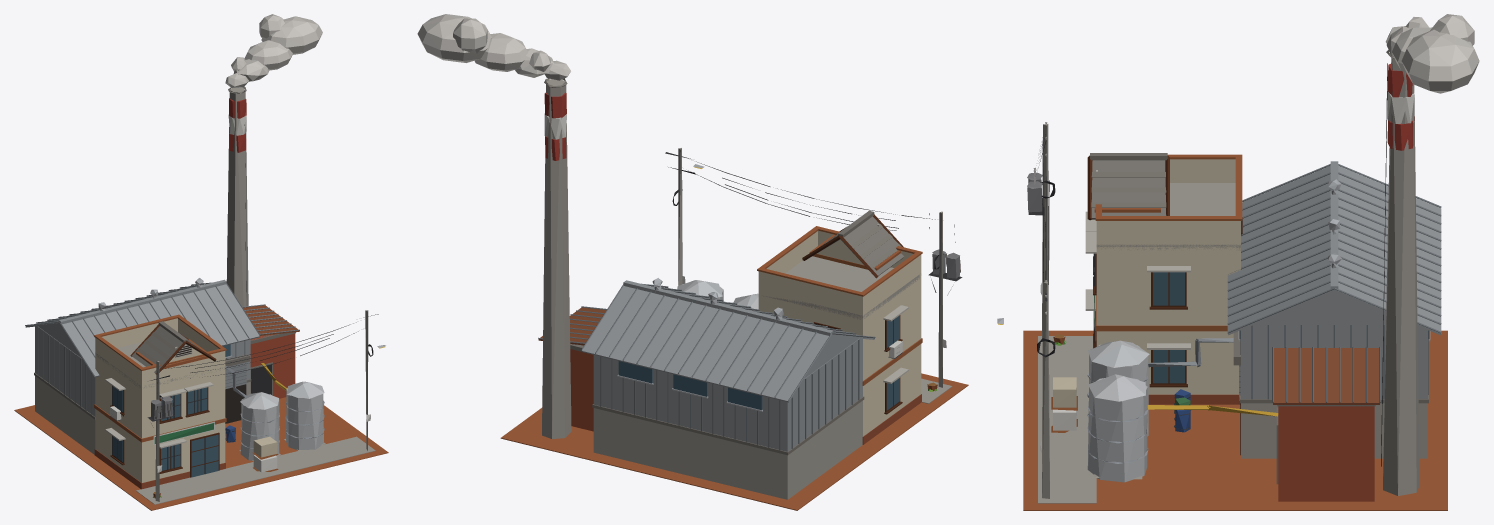
The model's file is factory_3.glb.
The picture shows the model from 3 angles, left to right: view 1: azimuth 30°, elevation 25°; view 2: azimuth 150°, elevation 25°; view 3: azimuth 270°, elevation 25°; orthographic projection. The views are drawn at different scales.
Parts seen in each view (by area): view 1: body, windows; view 2: body, windows; view 3: body, windows.
Boxes of the visible parts, <box> form: body: <box>14,14,388,510</box>; windows: <box>112,344,384,477</box>; body: <box>417,14,968,510</box>; windows: <box>618,167,899,410</box>; body: <box>997,14,1479,510</box>; windows: <box>998,220,1429,455</box>.
Bounding box in the file's own units: 20.26 × 21.44 × 18.06.
